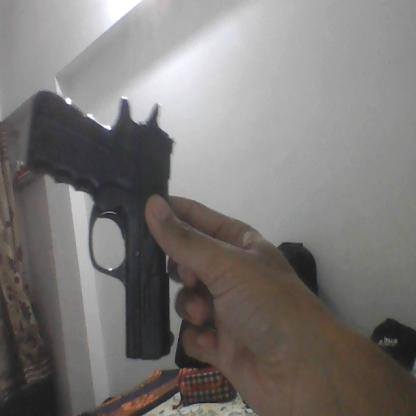handgun: (25, 90, 175, 363)
